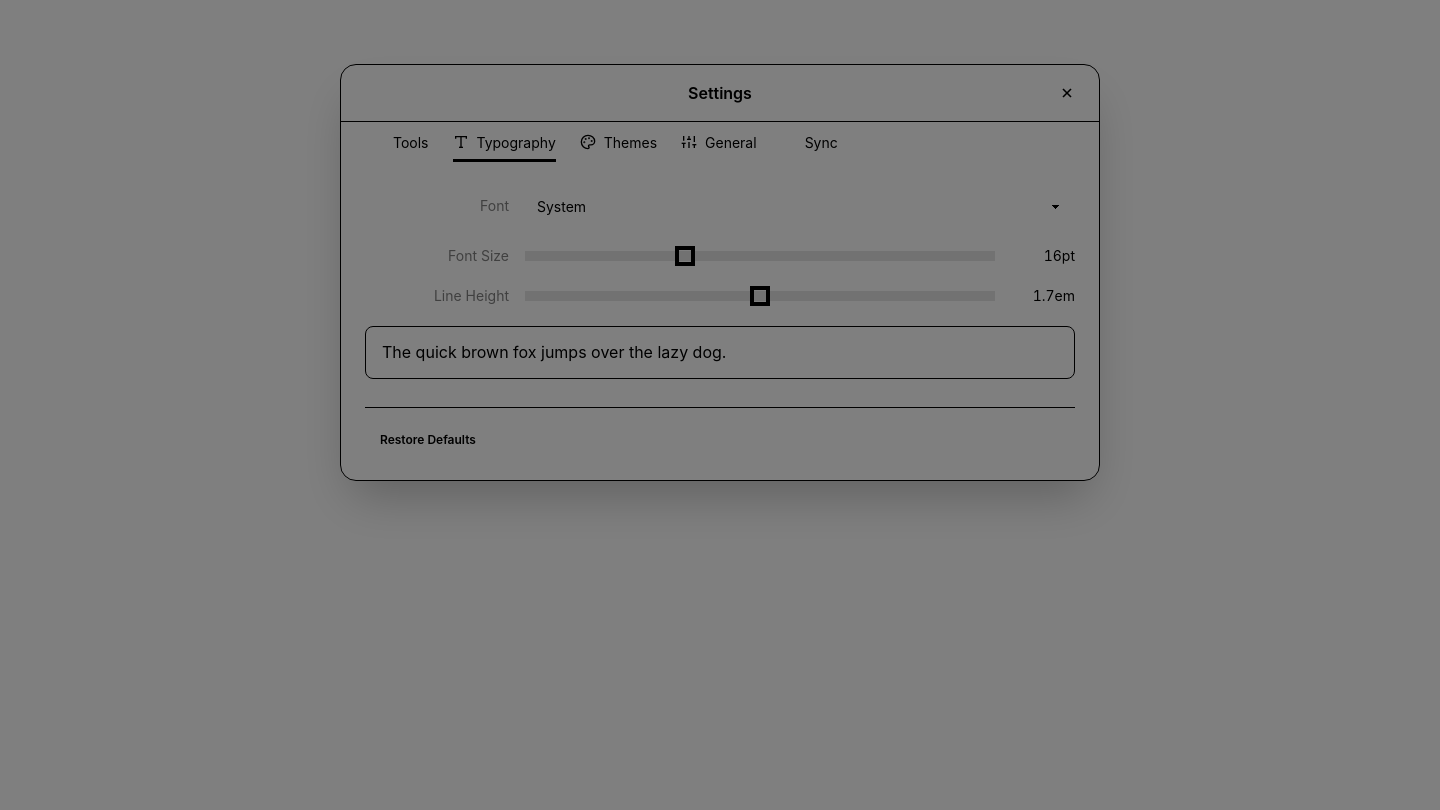
Scenario: SettingsModal General tab toggles › toggles a setting from the keyboard
The width and height of the screenshot is (1440, 810).
Click the tab "General" at (719, 142), box [669,122,769,162]
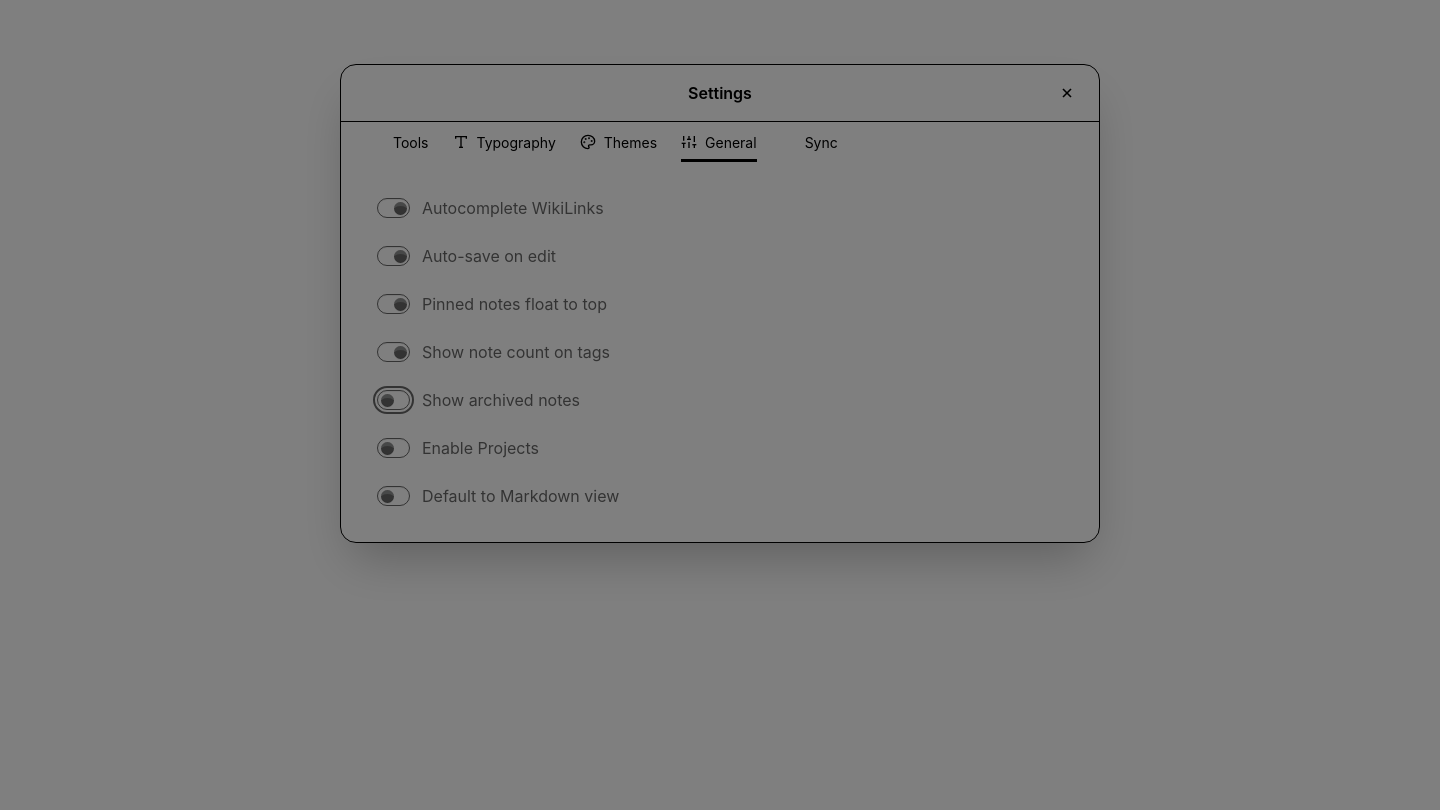
Type keys " "
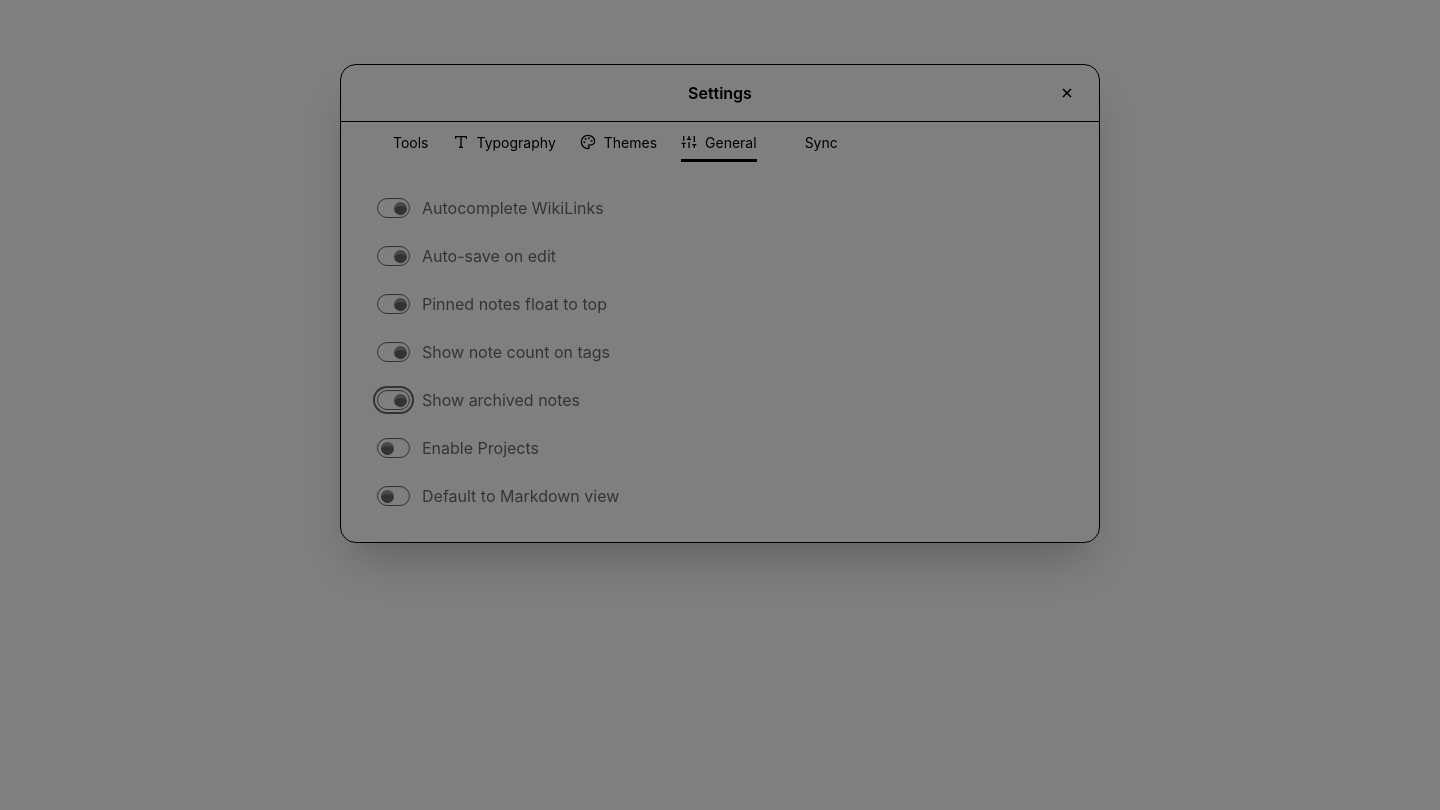
Expected: the checkbox labelled "Show archived notes" is checked, [377,390,410,410]
